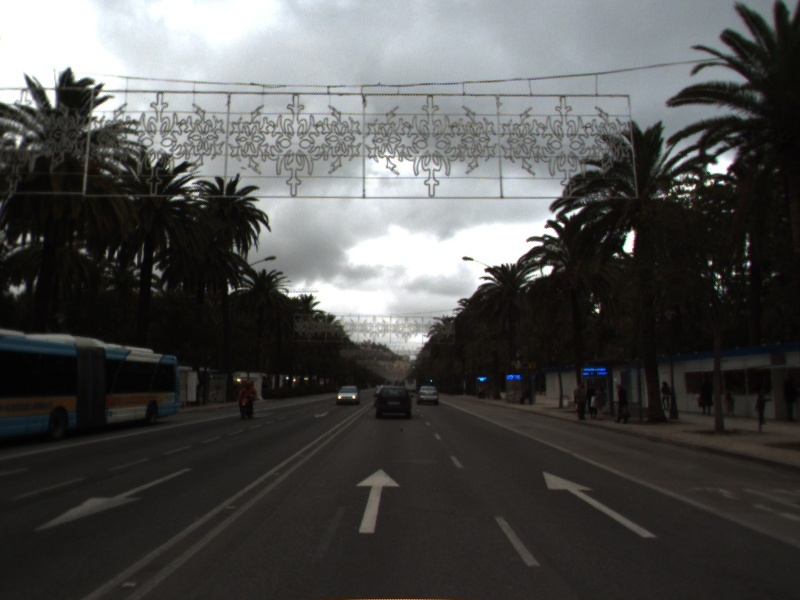STRAIGHT: (541, 469, 660, 540), (353, 466, 402, 535)
